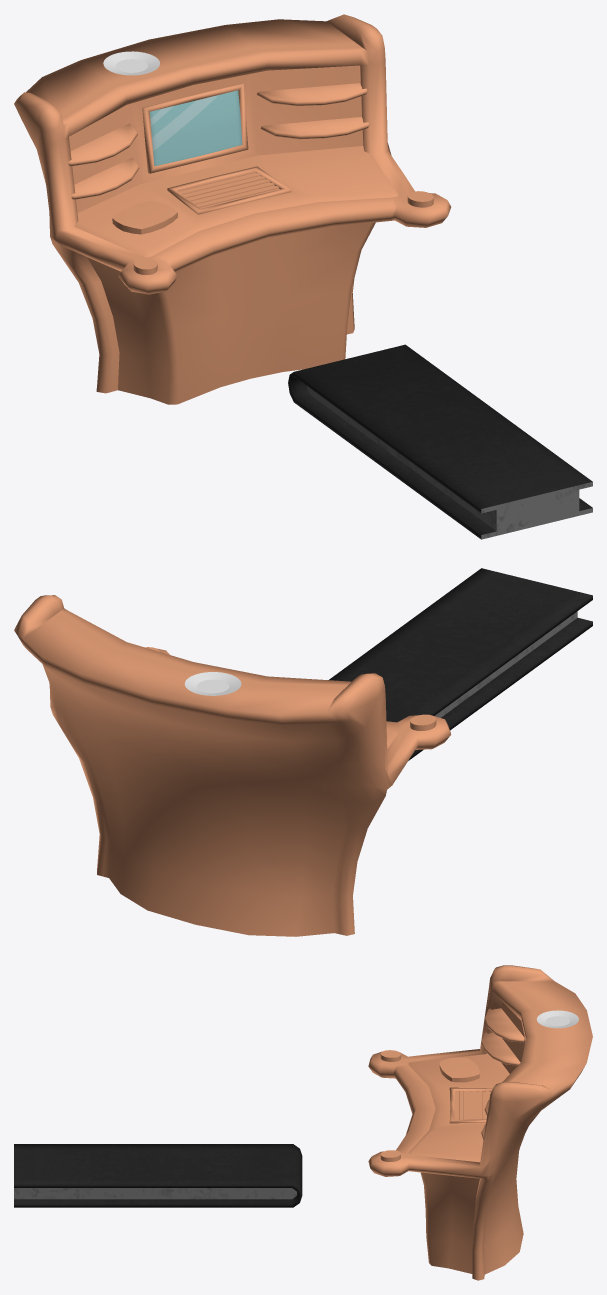
File: KitchenFurnitureV2.fbx
The picture shows the model from 3 angles, top to bottom: view 1: azimuth 30°, elevation 25°; view 2: azimuth 150°, elevation 25°; view 3: azimuth 270°, elevation 25°; orthographic projection. The views are drawn at different scales.
Visible parts, largest first — view 1: Table, Rodillo, Screen, Plate; view 2: Table, Rodillo, Plate; view 3: Table, Rodillo, Plate.
Boxes of the visible parts, x1,y1,x2,y2 form: Table: (14, 14, 450, 404); Rodillo: (288, 344, 592, 539); Screen: (149, 90, 242, 166); Plate: (103, 51, 159, 75); Table: (14, 595, 451, 936); Rodillo: (328, 568, 592, 760); Plate: (184, 672, 241, 695); Table: (368, 965, 592, 1280); Rodillo: (14, 1144, 302, 1207); Plate: (536, 1010, 578, 1028).
Size of the model in its own units: 188 by 149 by 374.
